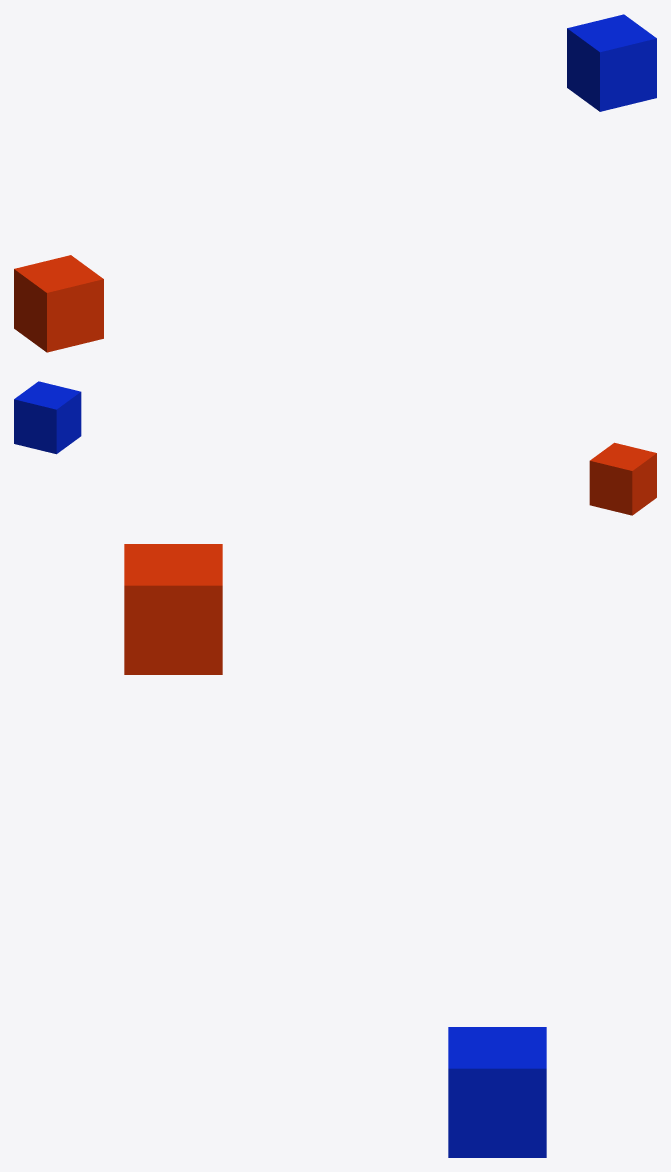
The model's file is map.fbx.
The picture shows the model from 3 angles, top to bottom: view 1: azimuth 30°, elevation 25°; view 2: azimuth 150°, elevation 25°; view 3: azimuth 270°, elevation 25°; orthographic projection. The views are drawn at different scales.
Parts seen in each view (by area): view 1: Test#Aqeuse#infos test, Test 2#Jcls#infos test 2; view 2: Test#Aqeuse#infos test, Test 2#Jcls#infos test 2; view 3: Test#Aqeuse#infos test, Test 2#Jcls#infos test 2.
Part boxes in pixels (x1=…): Test#Aqeuse#infos test: x1=14, y1=255, x2=103, y2=352; Test 2#Jcls#infos test 2: x1=567, y1=14, x2=656, y2=111; Test#Aqeuse#infos test: x1=589, y1=442, x2=656, y2=515; Test 2#Jcls#infos test 2: x1=14, y1=381, x2=81, y2=454; Test#Aqeuse#infos test: x1=124, y1=544, x2=222, y2=674; Test 2#Jcls#infos test 2: x1=448, y1=1027, x2=546, y2=1157.
Size of the model in its own units: 2521 by 200 by 859.
